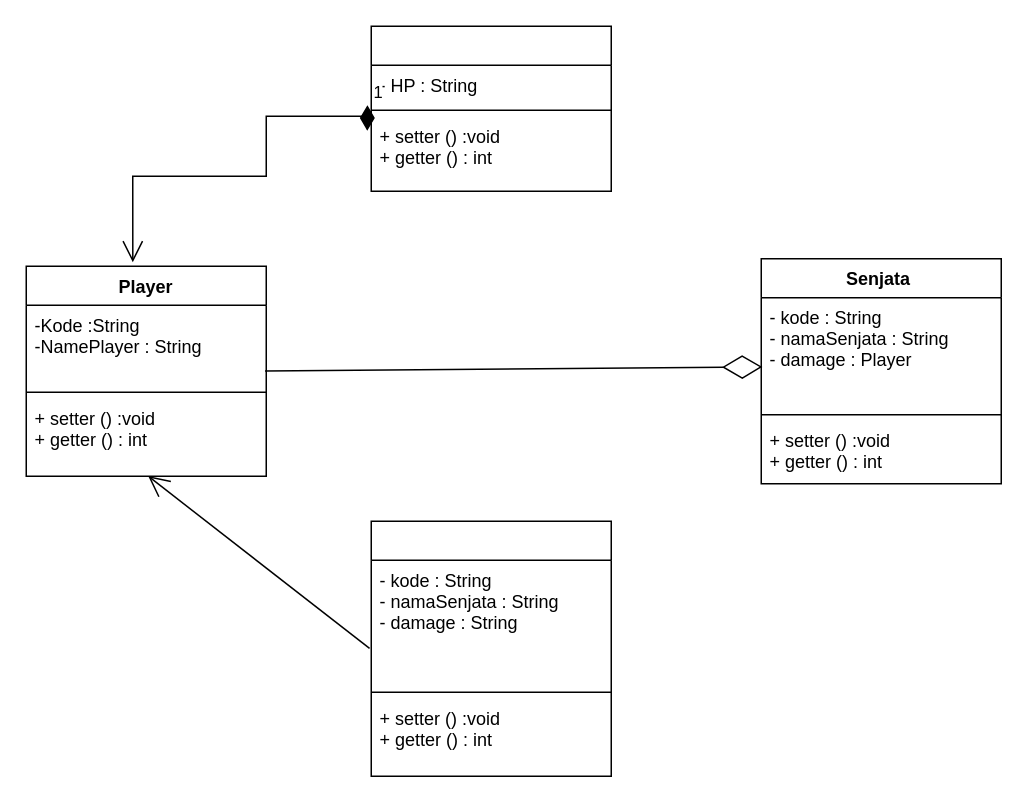
Some shapes in this 1028 by 807 pixel diagram are drawn without their labels. The shapes that lost their labels are listed below. From the top down, each one's box as (x1, y1, x2, y2) in pixels, then its label:
(370, 25, 611, 191): Armor
(370, 520, 611, 776): Senjata 2
